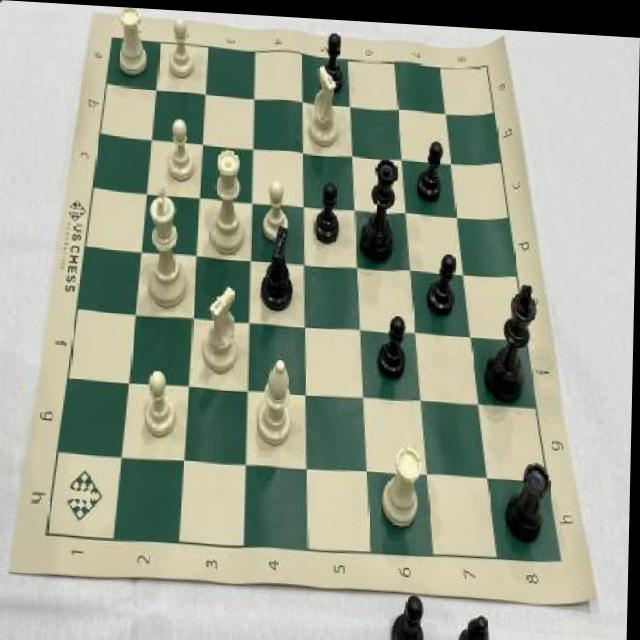black-bishop: (481, 270, 540, 402)
black-king: (259, 221, 301, 310)
black-knight: (377, 307, 411, 378), (426, 246, 459, 315), (311, 178, 344, 245), (316, 24, 347, 93), (415, 133, 445, 202)
black-pawn: (359, 146, 402, 264)
black-queen: (501, 450, 557, 543)
black-rook: (255, 350, 296, 445)
white-bishop: (146, 182, 194, 310)
white-king: (203, 282, 246, 375), (307, 59, 342, 145)
white-knight: (141, 362, 180, 438), (259, 171, 292, 239), (165, 12, 198, 80), (166, 111, 197, 182)
white-pawn: (209, 142, 249, 255)
white-queen: (377, 432, 426, 525), (114, 5, 152, 82)
